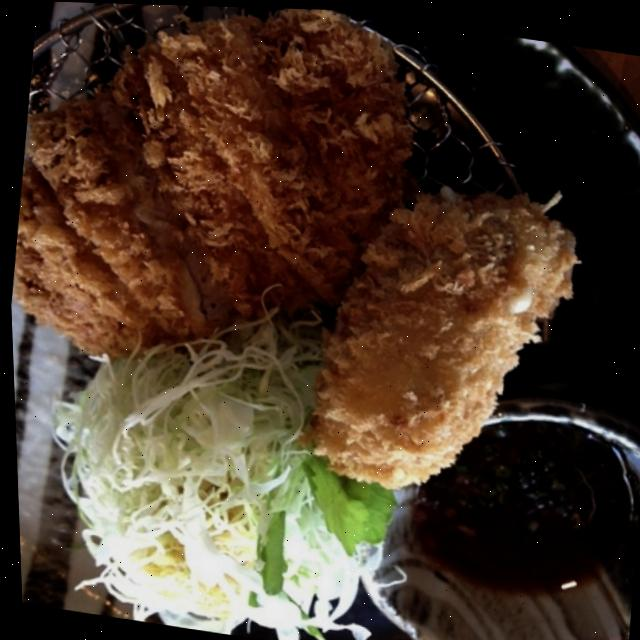牛肉菜式: (0, 0, 607, 525)
